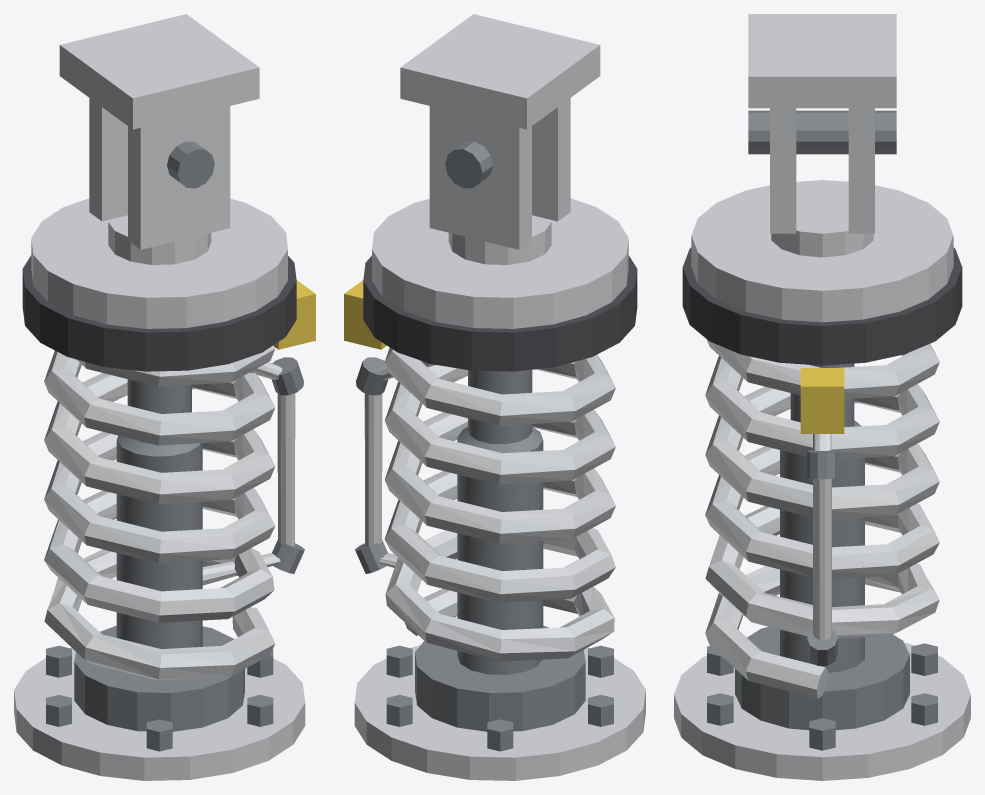
File: cold-war-missile-silo-and-command-bunker-shock-isolato-e2fee732__15661.glb
3 views of the same model, side by side, from view 1: azimuth 30°, elevation 25°; view 2: azimuth 150°, elevation 25°; view 3: azimuth 270°, elevation 25° (orthographic).
Visible parts, largest first — view 1: shock-isolator-strut; view 2: shock-isolator-strut; view 3: shock-isolator-strut.
Boxes of the visible parts, x1=… form: shock-isolator-strut: x1=14, y1=14, x2=315, y2=780; shock-isolator-strut: x1=344, y1=14, x2=645, y2=780; shock-isolator-strut: x1=674, y1=14, x2=970, y2=780.
Size of the model in its own units: 0.73 by 1.7 by 0.6799.
